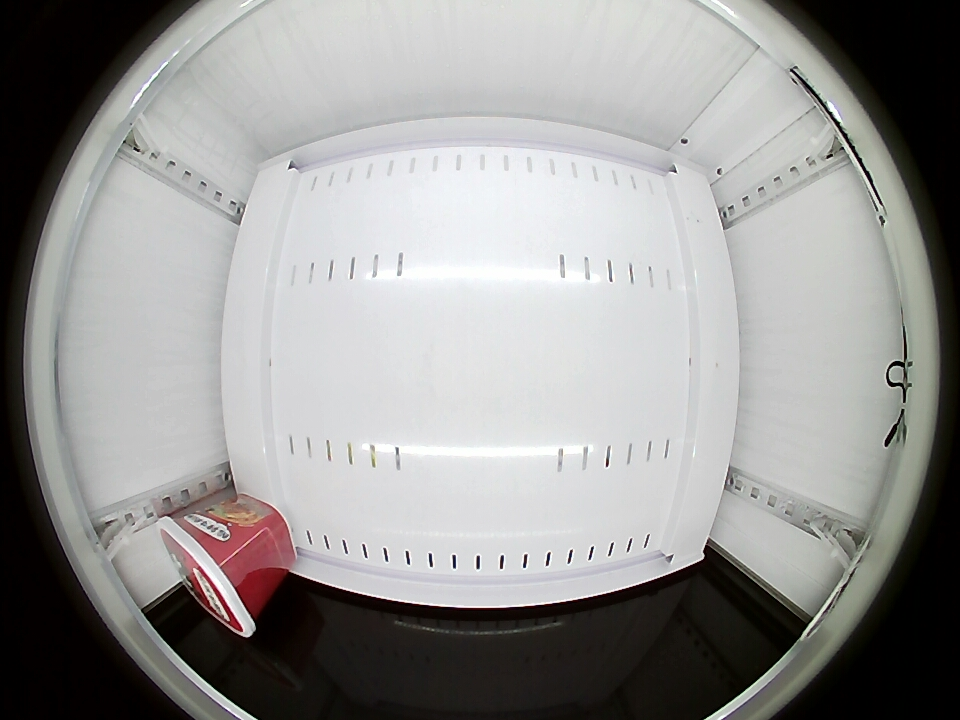niudufen: (159, 509, 268, 637)
